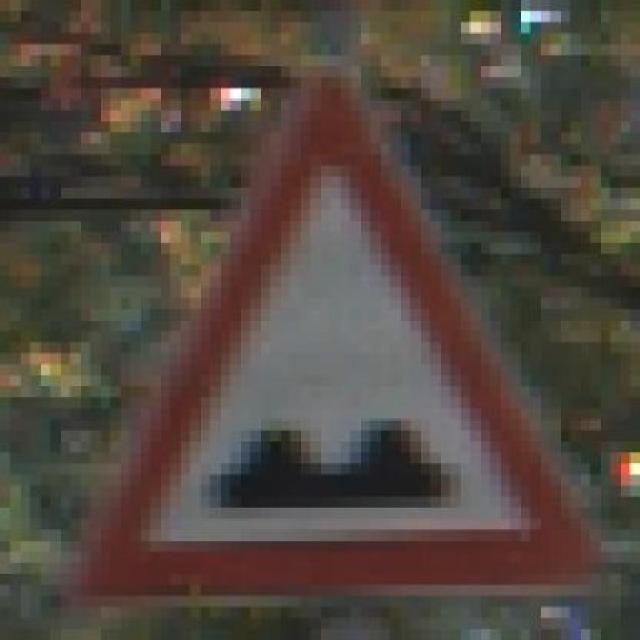Uneven Road: (79, 77, 610, 608)
